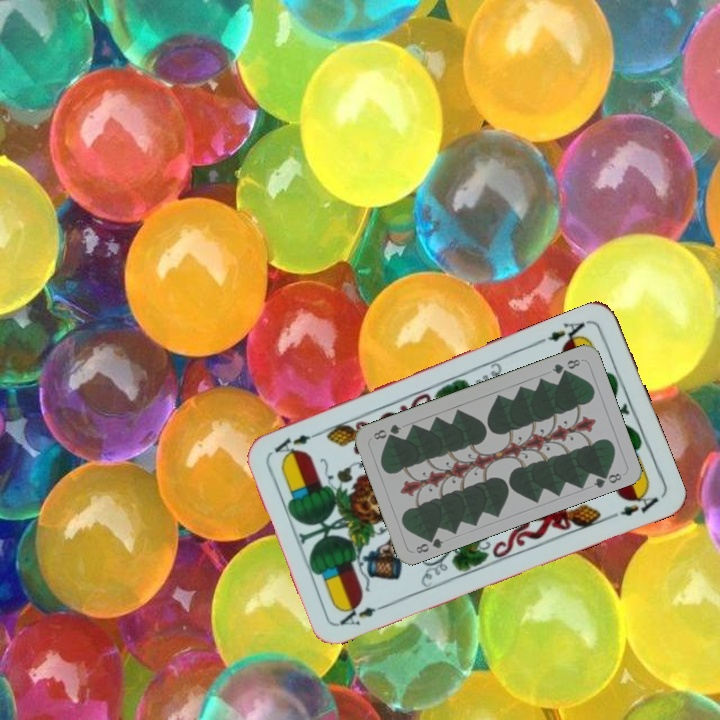EA: (536, 316, 593, 350), (335, 598, 392, 628)
G8: (412, 531, 446, 556), (548, 355, 583, 377)
